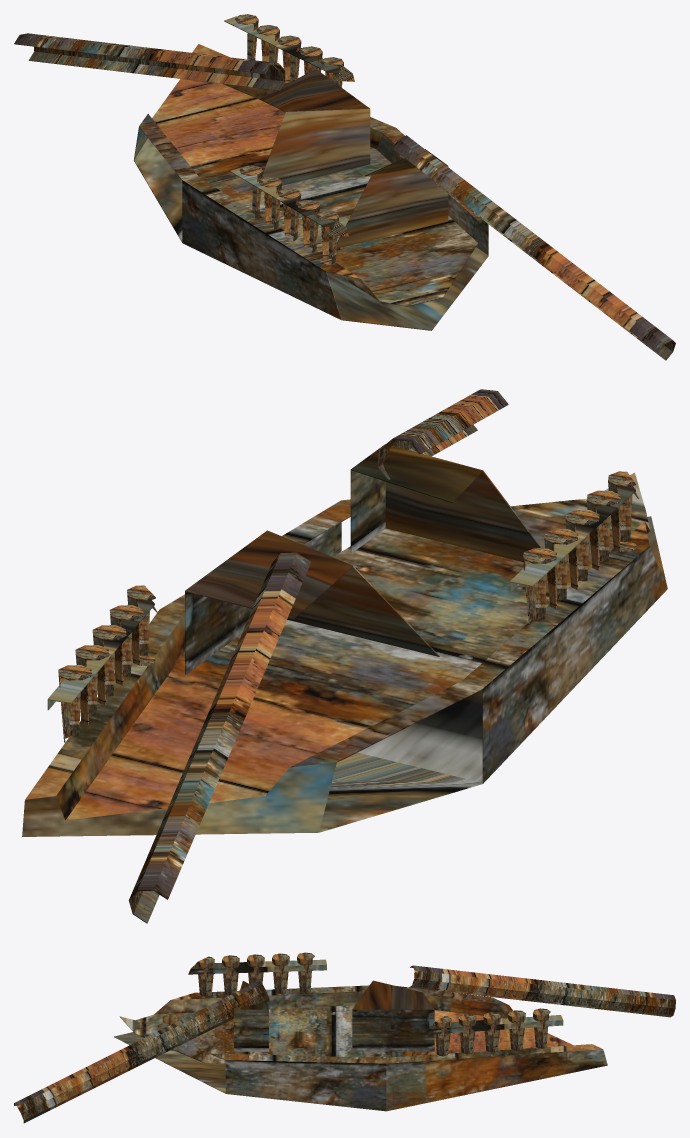
File: epave2.fbx
The picture shows the model from 3 angles, top to bottom: view 1: azimuth 30°, elevation 25°; view 2: azimuth 150°, elevation 25°; view 3: azimuth 270°, elevation 25°; orthographic projection. The views are drawn at different scales.
Visible parts, largest first — view 1: Cube.006; view 2: Cube.006; view 3: Cube.006.
Part boxes in pixels (<box>): Cube.006: <box>14,14,675,360</box>; Cube.006: <box>22,389,667,923</box>; Cube.006: <box>14,952,675,1123</box>.
Size of the model in its own units: 373 by 200 by 1123.
